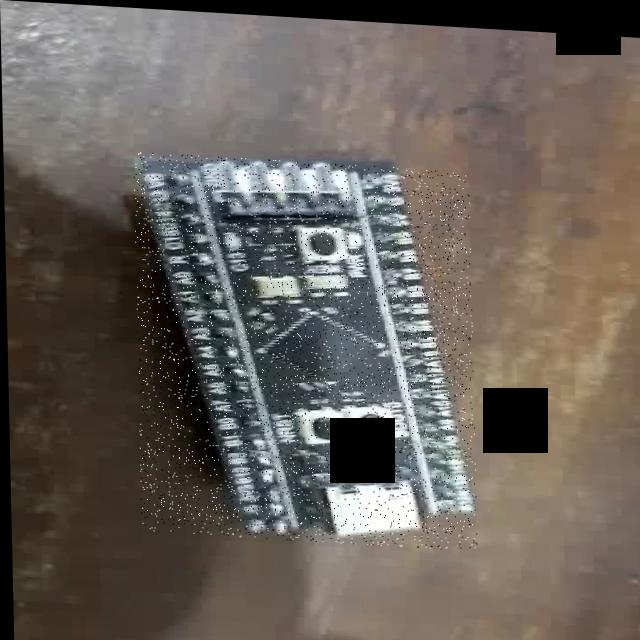stm32: (132, 150, 475, 546)
